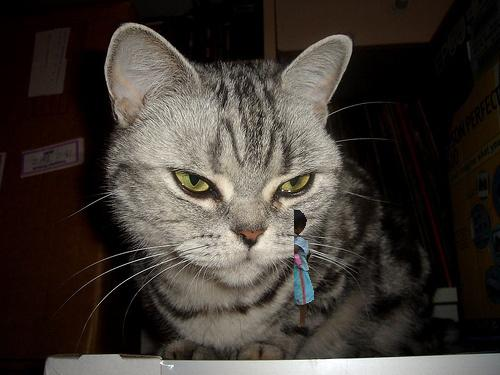tampered: (295, 211, 314, 327)
